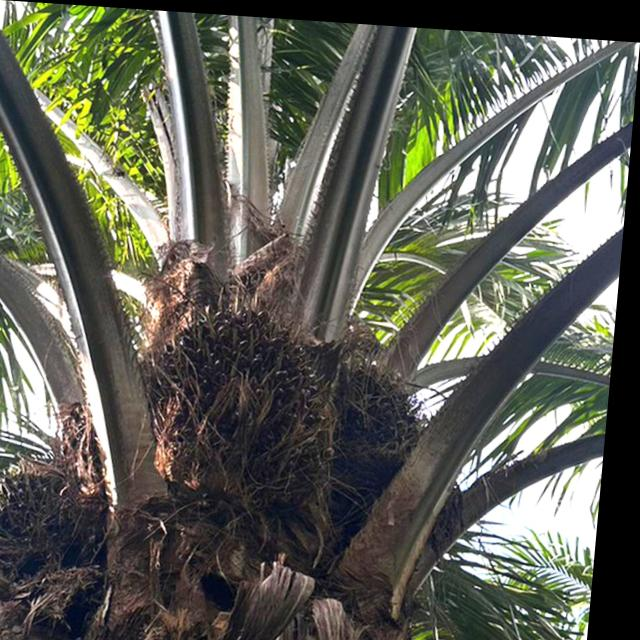unripe: (123, 275, 368, 532), (331, 349, 489, 543), (0, 436, 148, 630)
